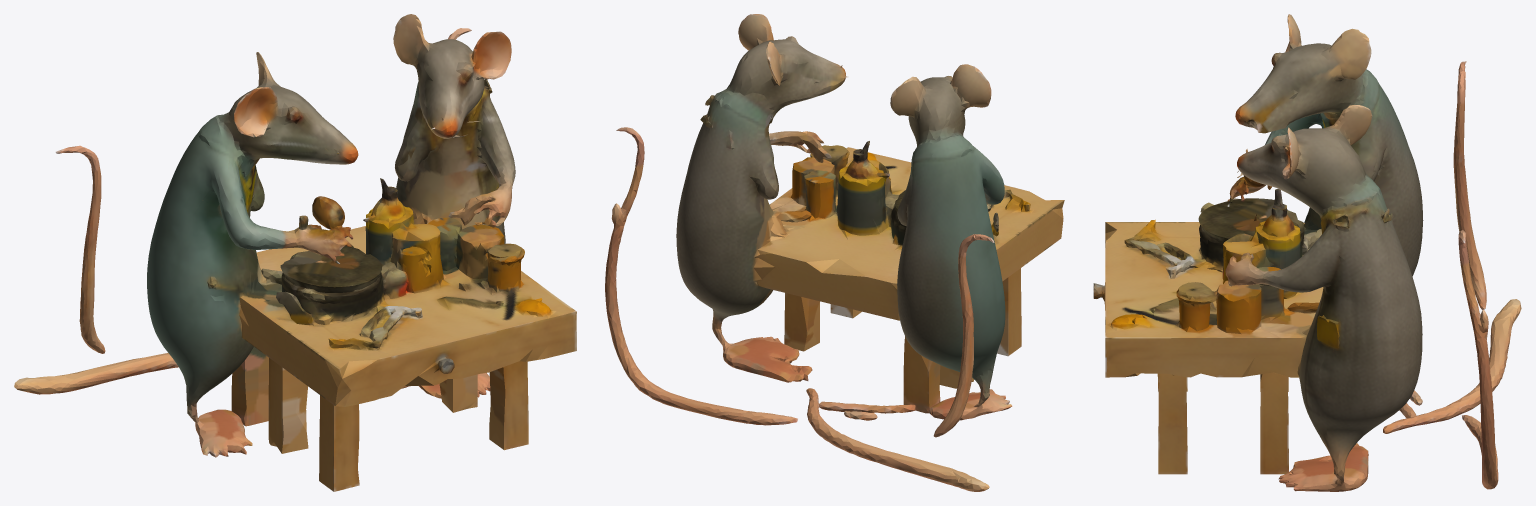
The picture shows the model from 3 angles, left to right: view 1: azimuth 30°, elevation 25°; view 2: azimuth 150°, elevation 25°; view 3: azimuth 270°, elevation 25°; orthographic projection. The views are drawn at different scales.
Visible parts, largest first — view 1: 029; view 2: 029; view 3: 029.
Boxes of the visible parts, bbox=[...] form: 029: bbox=[14, 14, 576, 491]; 029: bbox=[605, 14, 1064, 491]; 029: bbox=[1093, 14, 1521, 491].
Size of the model in its own units: 1.9 by 1.52 by 1.62.
1 material, 1 textured.
